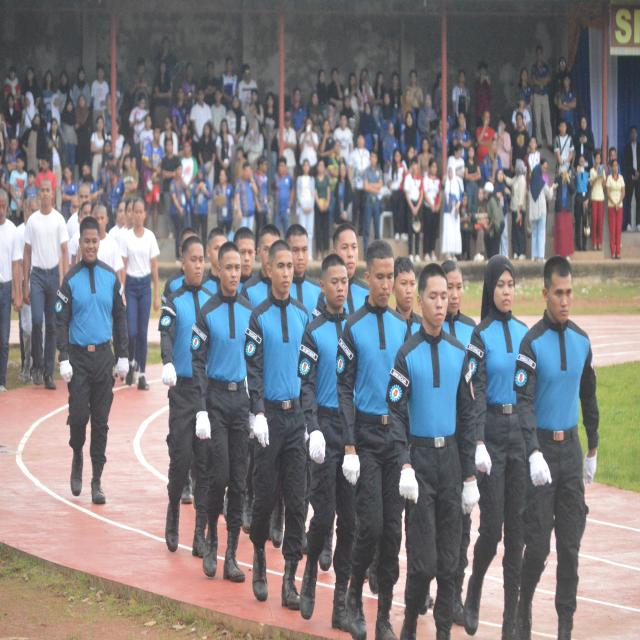person: (387, 264, 479, 639), (514, 257, 599, 639), (336, 240, 409, 639), (464, 256, 528, 638), (245, 240, 308, 609), (188, 242, 253, 582), (298, 254, 356, 631), (55, 217, 127, 504), (159, 236, 210, 551), (24, 179, 69, 389), (121, 199, 160, 390), (0, 190, 21, 392), (285, 224, 321, 322), (241, 224, 280, 307), (333, 223, 368, 315), (528, 160, 556, 261), (393, 257, 422, 334), (505, 159, 527, 259), (532, 45, 552, 147), (441, 167, 463, 259), (554, 164, 575, 257), (363, 153, 382, 253), (454, 514, 471, 625), (606, 160, 625, 259), (296, 160, 315, 250), (590, 152, 606, 250), (625, 125, 639, 230)
